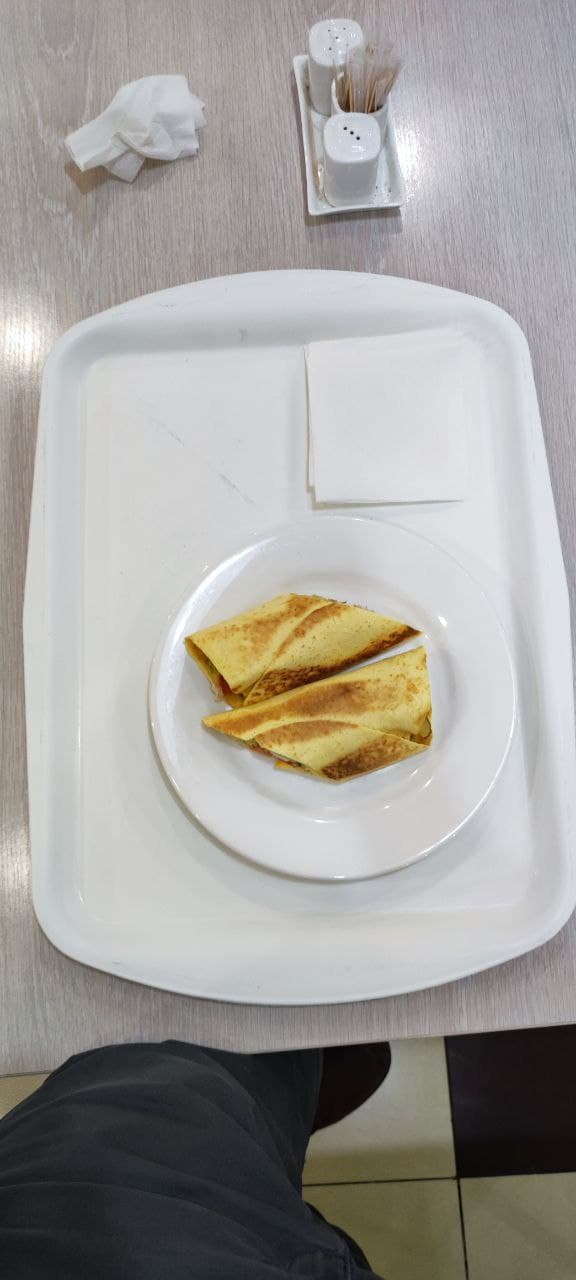Кесадилья с курицей: (184, 594, 434, 784)
Поднос: (21, 266, 574, 1008)
Салфетки: (304, 343, 473, 503)
Тарелка: (150, 525, 518, 884)
